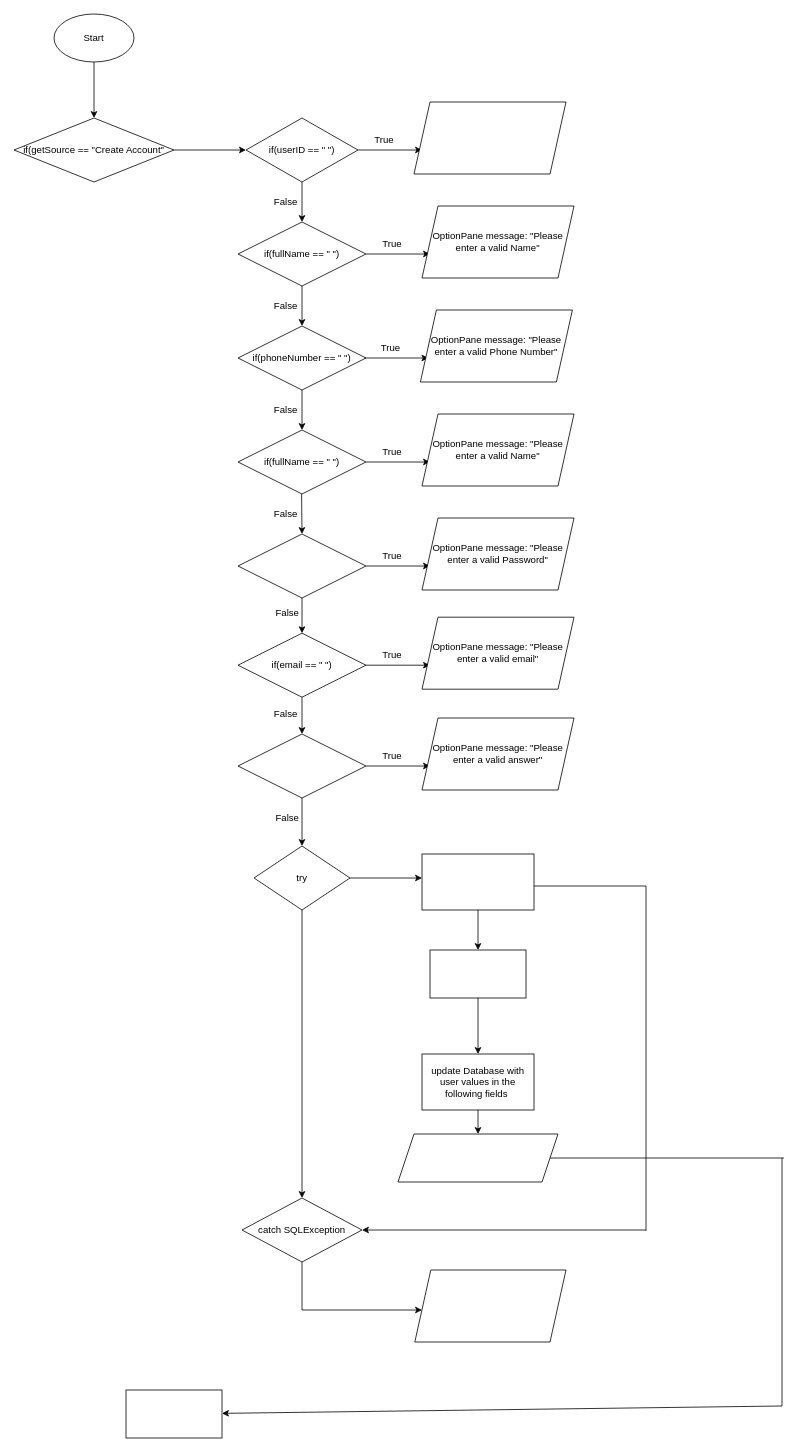
This 802x1452 diagram has some shape labels left out. The box of each missing label's shape, as (x1, y1, x2, y2) in pixels:
Connection to MySQL Database using DriverManager: (421, 853, 534, 910)
Creates a SQL query by using Statement: (429, 949, 526, 998)
if(answer == " "): (237, 733, 366, 798)
if(password == " "): (237, 533, 366, 598)
OptionPane message: "Please enter a valid User ID": (413, 101, 566, 174)
OptionPane Message: Error in connection: (414, 1269, 566, 1342)
OptionPane Message: User successfully created: (397, 1133, 558, 1182)
Return to Student Login Screen: (125, 1389, 222, 1438)
